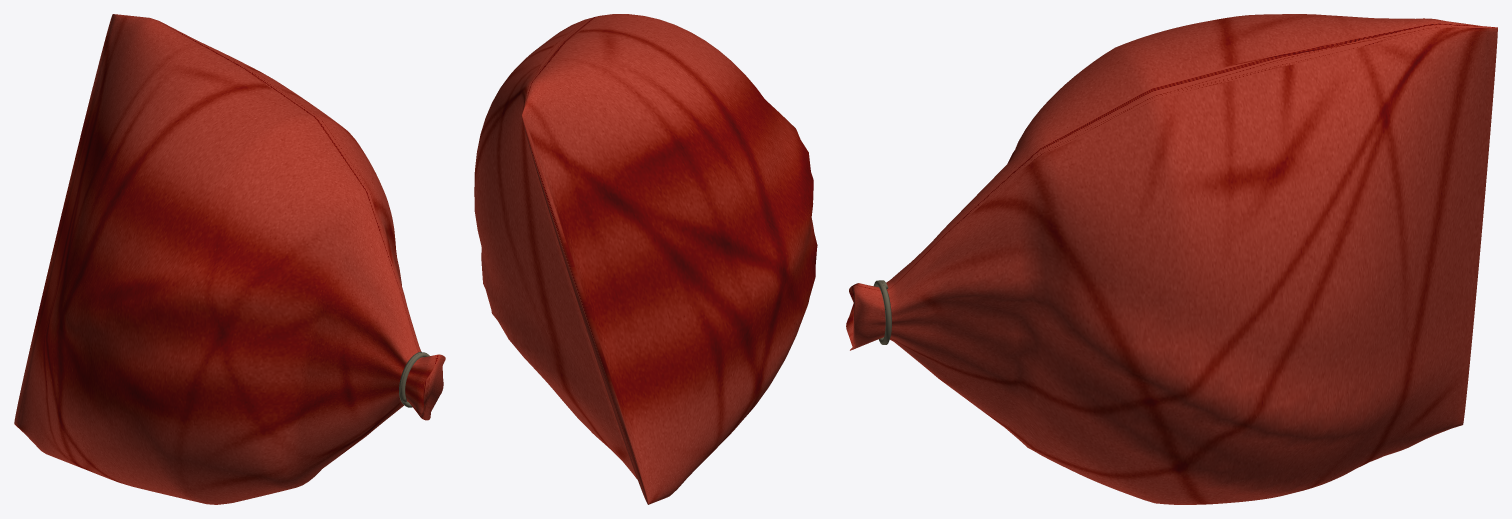
File: peach_00_013.glb
3 renders of one model, left to right at view 1: azimuth 30°, elevation 25°; view 2: azimuth 150°, elevation 25°; view 3: azimuth 270°, elevation 25°, orthographic. The views are drawn at different scales.
Parts seen in each view (by area): view 1: export_Tree00/shoot2_6_1/bag; view 2: export_Tree00/shoot2_6_1/bag; view 3: export_Tree00/shoot2_6_1/bag.
Boxes of the visible parts, <box> form: export_Tree00/shoot2_6_1/bag: <box>14,14,445,504</box>; export_Tree00/shoot2_6_1/bag: <box>474,14,817,504</box>; export_Tree00/shoot2_6_1/bag: <box>846,14,1497,504</box>.
Bounding box in the file's own units: 0.0854 × 0.1059 × 0.1258.
Materials: 4 (1 with a texture image).
